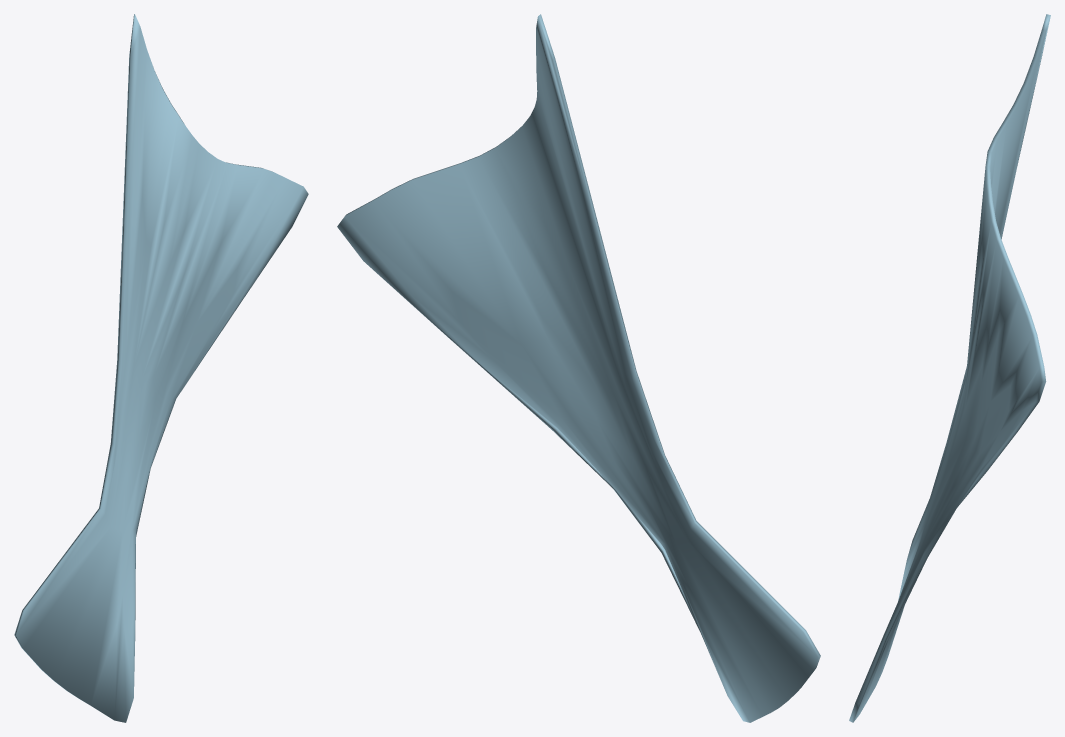
The model's file is articulacoes-sacrotuberous-ligament-r.glb.
3 views of the same model, side by side, from view 1: azimuth 30°, elevation 25°; view 2: azimuth 150°, elevation 25°; view 3: azimuth 270°, elevation 25° (orthographic). The views are drawn at different scales.
Visible parts, largest first — view 1: Sacrotuberous ligament.r; view 2: Sacrotuberous ligament.r; view 3: Sacrotuberous ligament.r.
Part boxes in pixels (x1=…): Sacrotuberous ligament.r: x1=14, y1=14, x2=308, y2=722; Sacrotuberous ligament.r: x1=337, y1=14, x2=820, y2=722; Sacrotuberous ligament.r: x1=849, y1=14, x2=1050, y2=722.
Bounding box in the file's own units: 0.0511 × 0.0881 × 0.0212.
